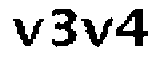3: (48, 6, 78, 49)
4: (115, 6, 151, 50)
v: (7, 15, 45, 47), (81, 16, 114, 49)
